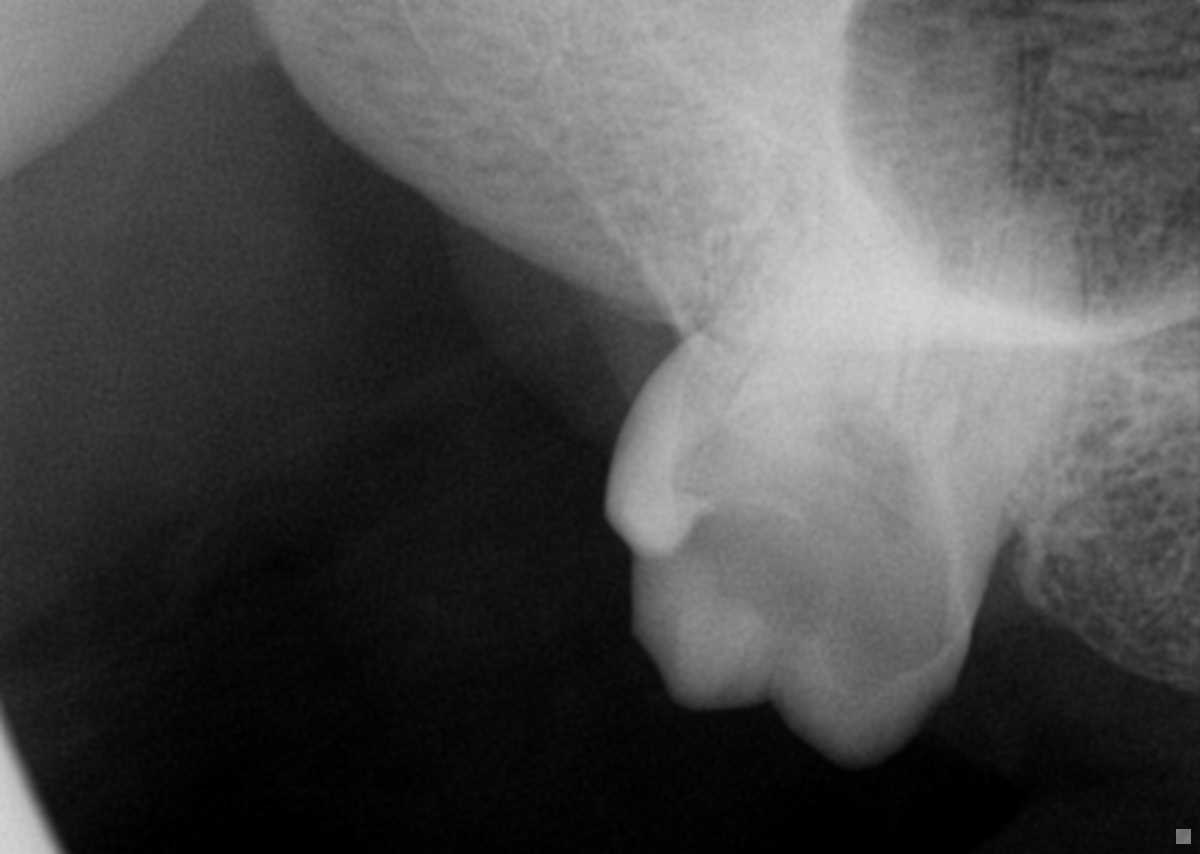Distal Root: (738, 152, 908, 405)
Mesial Canal: (944, 196, 1039, 456)
Mesial Root: (923, 187, 1086, 509)
Palatal Root: (728, 0, 1023, 448)
decay: (675, 394, 954, 688)
